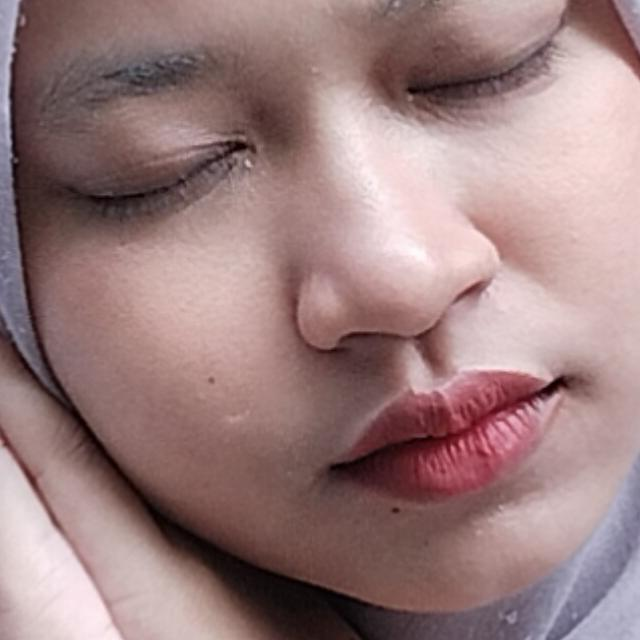tidur: (0, 78, 636, 640)
